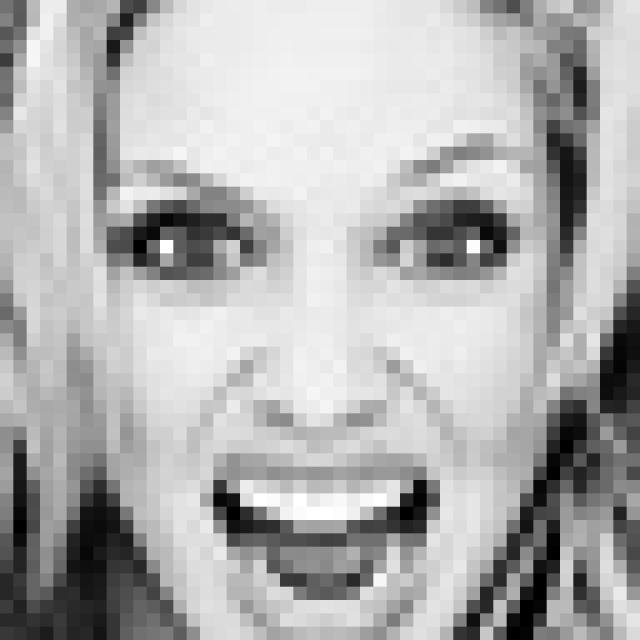angry: (102, 130, 540, 629)
